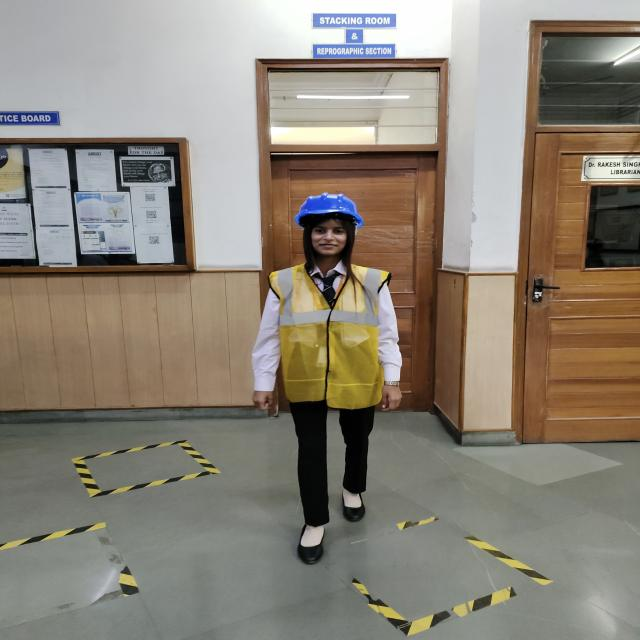safe: (254, 194, 401, 565)
